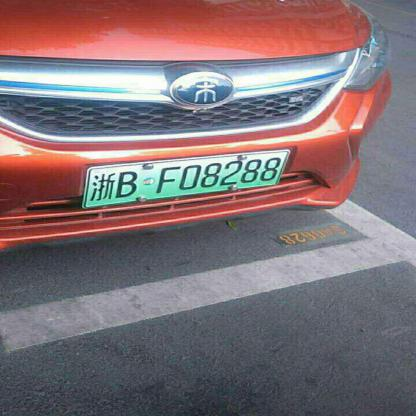lp: (85, 149, 288, 205)
